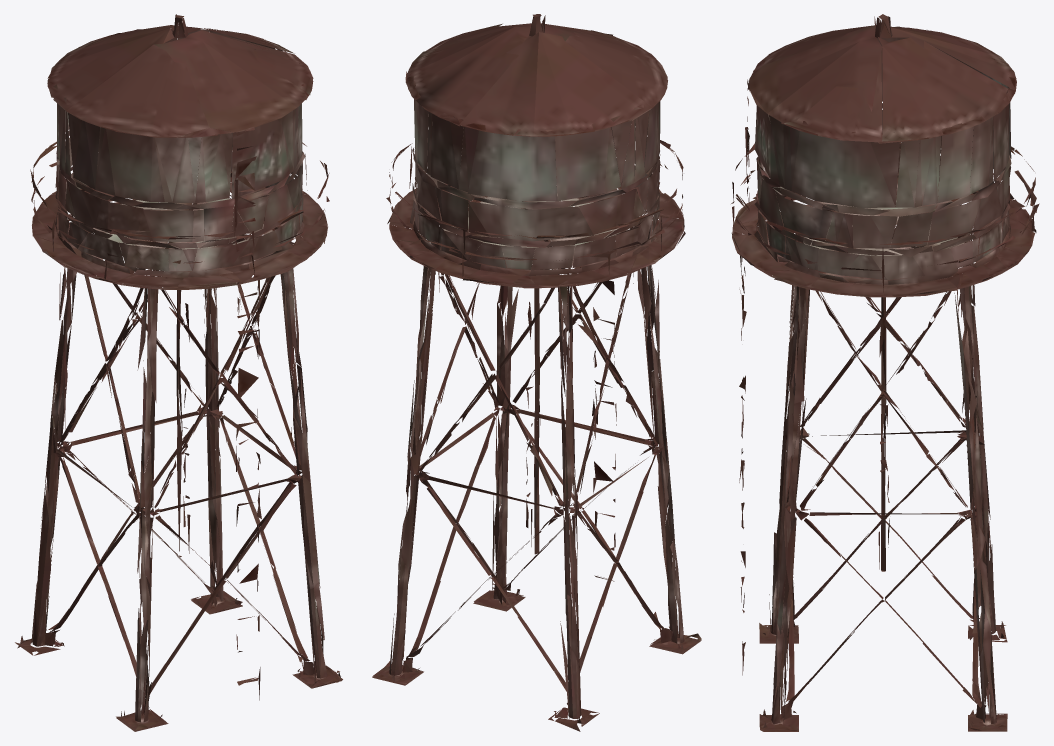
Rendered from water_tower.glb.
The picture shows the model from 3 angles, left to right: view 1: azimuth 30°, elevation 25°; view 2: azimuth 150°, elevation 25°; view 3: azimuth 270°, elevation 25°; orthographic projection. The views are drawn at different scales.
Parts seen in each view (by area): view 1: Mesh_0; view 2: Mesh_0; view 3: Mesh_0.
Boxes of the visible parts, left/top/right/bottom form: Mesh_0: left=15, top=14, right=342, bottom=731; Mesh_0: left=372, top=14, right=701, bottom=731; Mesh_0: left=731, top=14, right=1039, bottom=731.
Size of the model in its own units: 0.7971 by 1.91 by 0.8042.
1 material, 1 textured.
